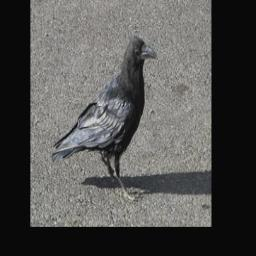Crow: (50, 33, 158, 201)
